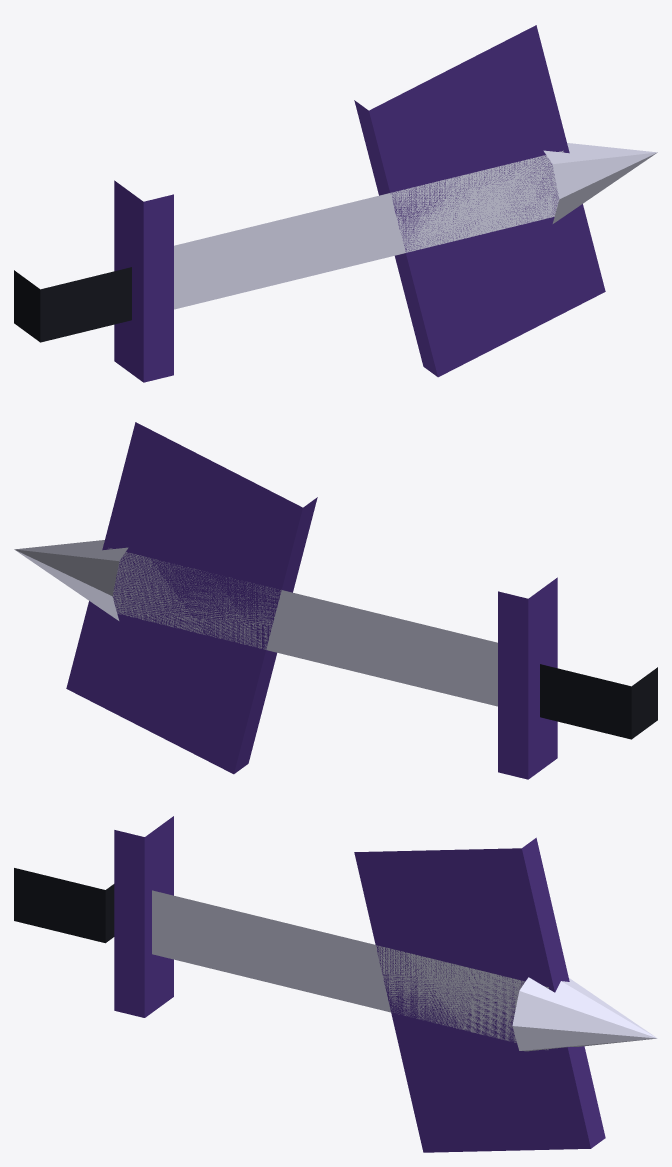
Rendered from silencer.glb.
3 views of the same model, one above another, from view 1: azimuth 30°, elevation 25°; view 2: azimuth 150°, elevation 25°; view 3: azimuth 330°, elevation 25° (orthographic).
Parts seen in each view (by area): view 1: silencer-crescent, silencer-blade, silencer-guard, silencer-grip, silencer-tip; view 2: silencer-crescent, silencer-blade, silencer-guard, silencer-grip, silencer-tip; view 3: silencer-crescent, silencer-blade, silencer-guard, silencer-tip, silencer-grip.
Boxes of the visible parts, box(x1,y1,x2,y2) form: silencer-crescent: box(354, 25, 605, 377); silencer-blade: box(174, 150, 563, 309); silencer-guard: box(114, 180, 173, 382); silencer-grip: box(14, 267, 131, 342); silencer-tip: box(543, 143, 657, 223); silencer-crescent: box(66, 422, 317, 774); silencer-blade: box(108, 548, 497, 706); silencer-guard: box(498, 577, 557, 779); silencer-grip: box(540, 664, 657, 739); silencer-tip: box(14, 540, 128, 620); silencer-crescent: box(354, 837, 605, 1152); silencer-blade: box(152, 890, 548, 1049); silencer-guard: box(114, 816, 173, 1017); silencer-tip: box(512, 977, 657, 1051); silencer-grip: box(14, 868, 114, 943).
Bounding box in the file's own units: 1.24 × 0.617 × 0.16.
